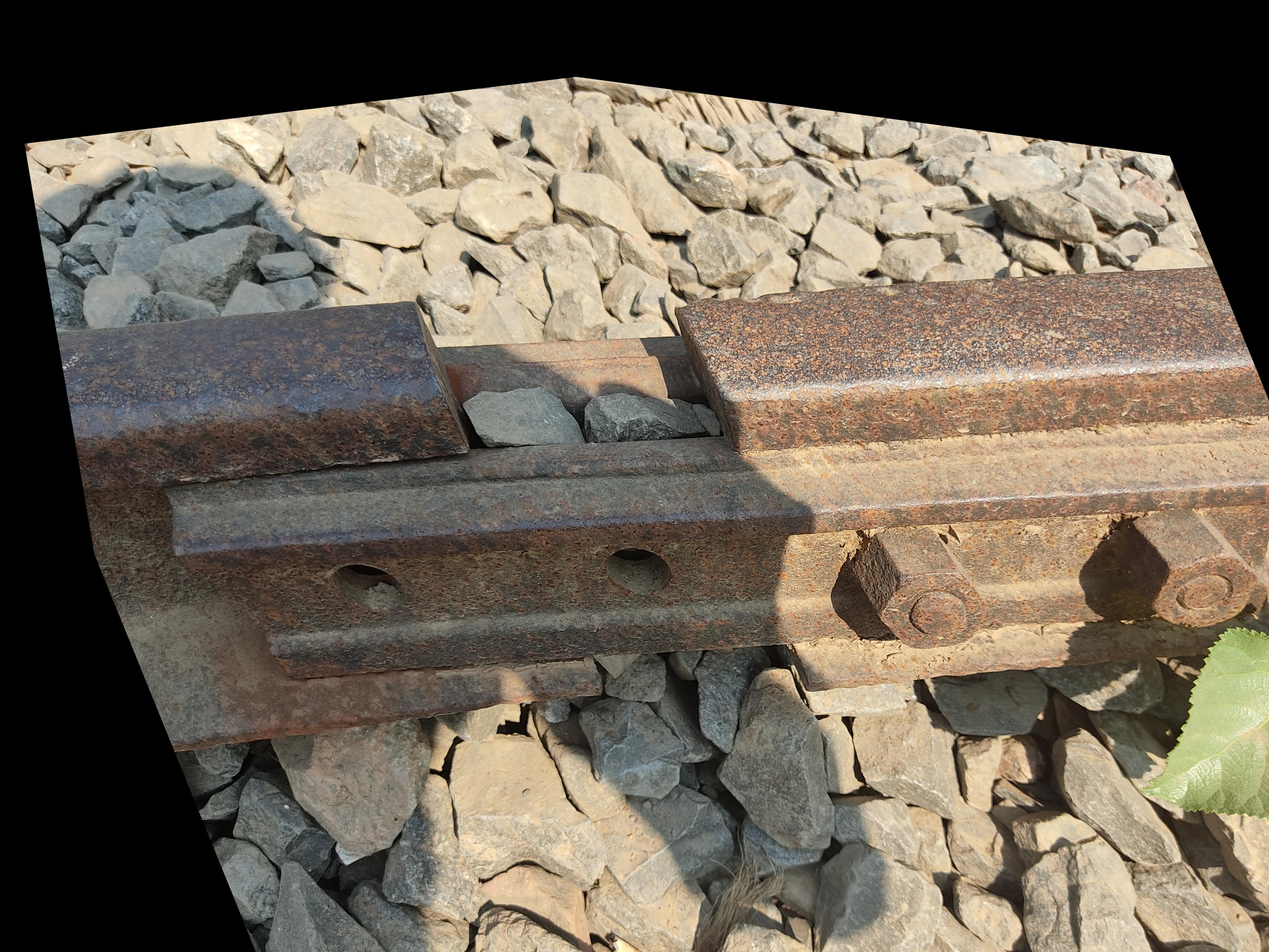person: (237, 299, 735, 715)
